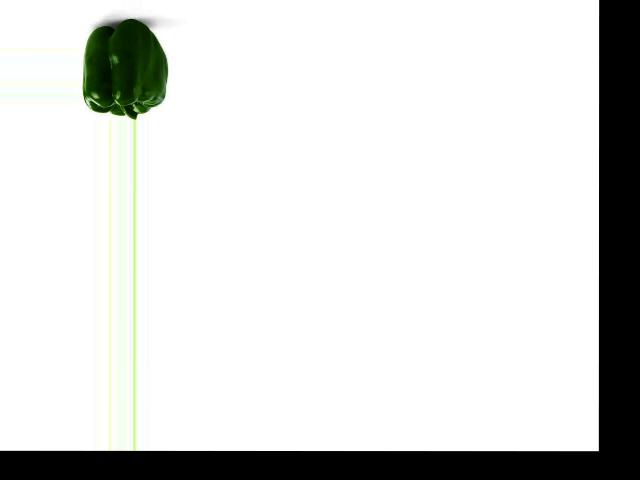bell_pepper: (81, 22, 170, 117)
